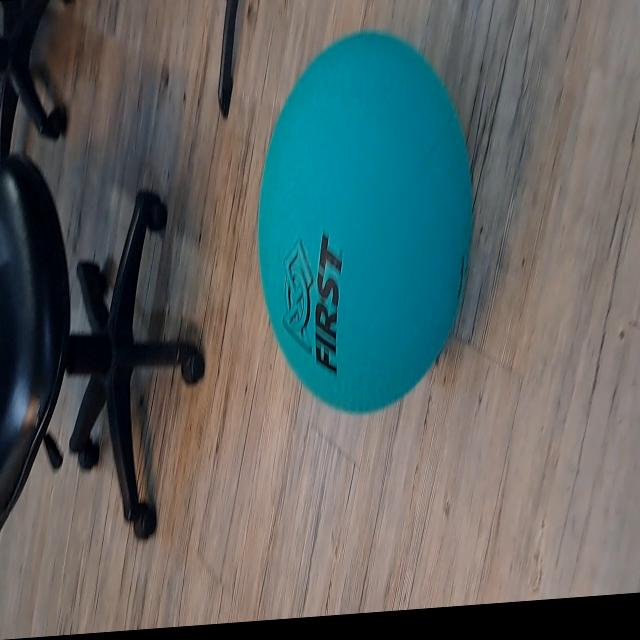ALGAE: (255, 21, 475, 425)
